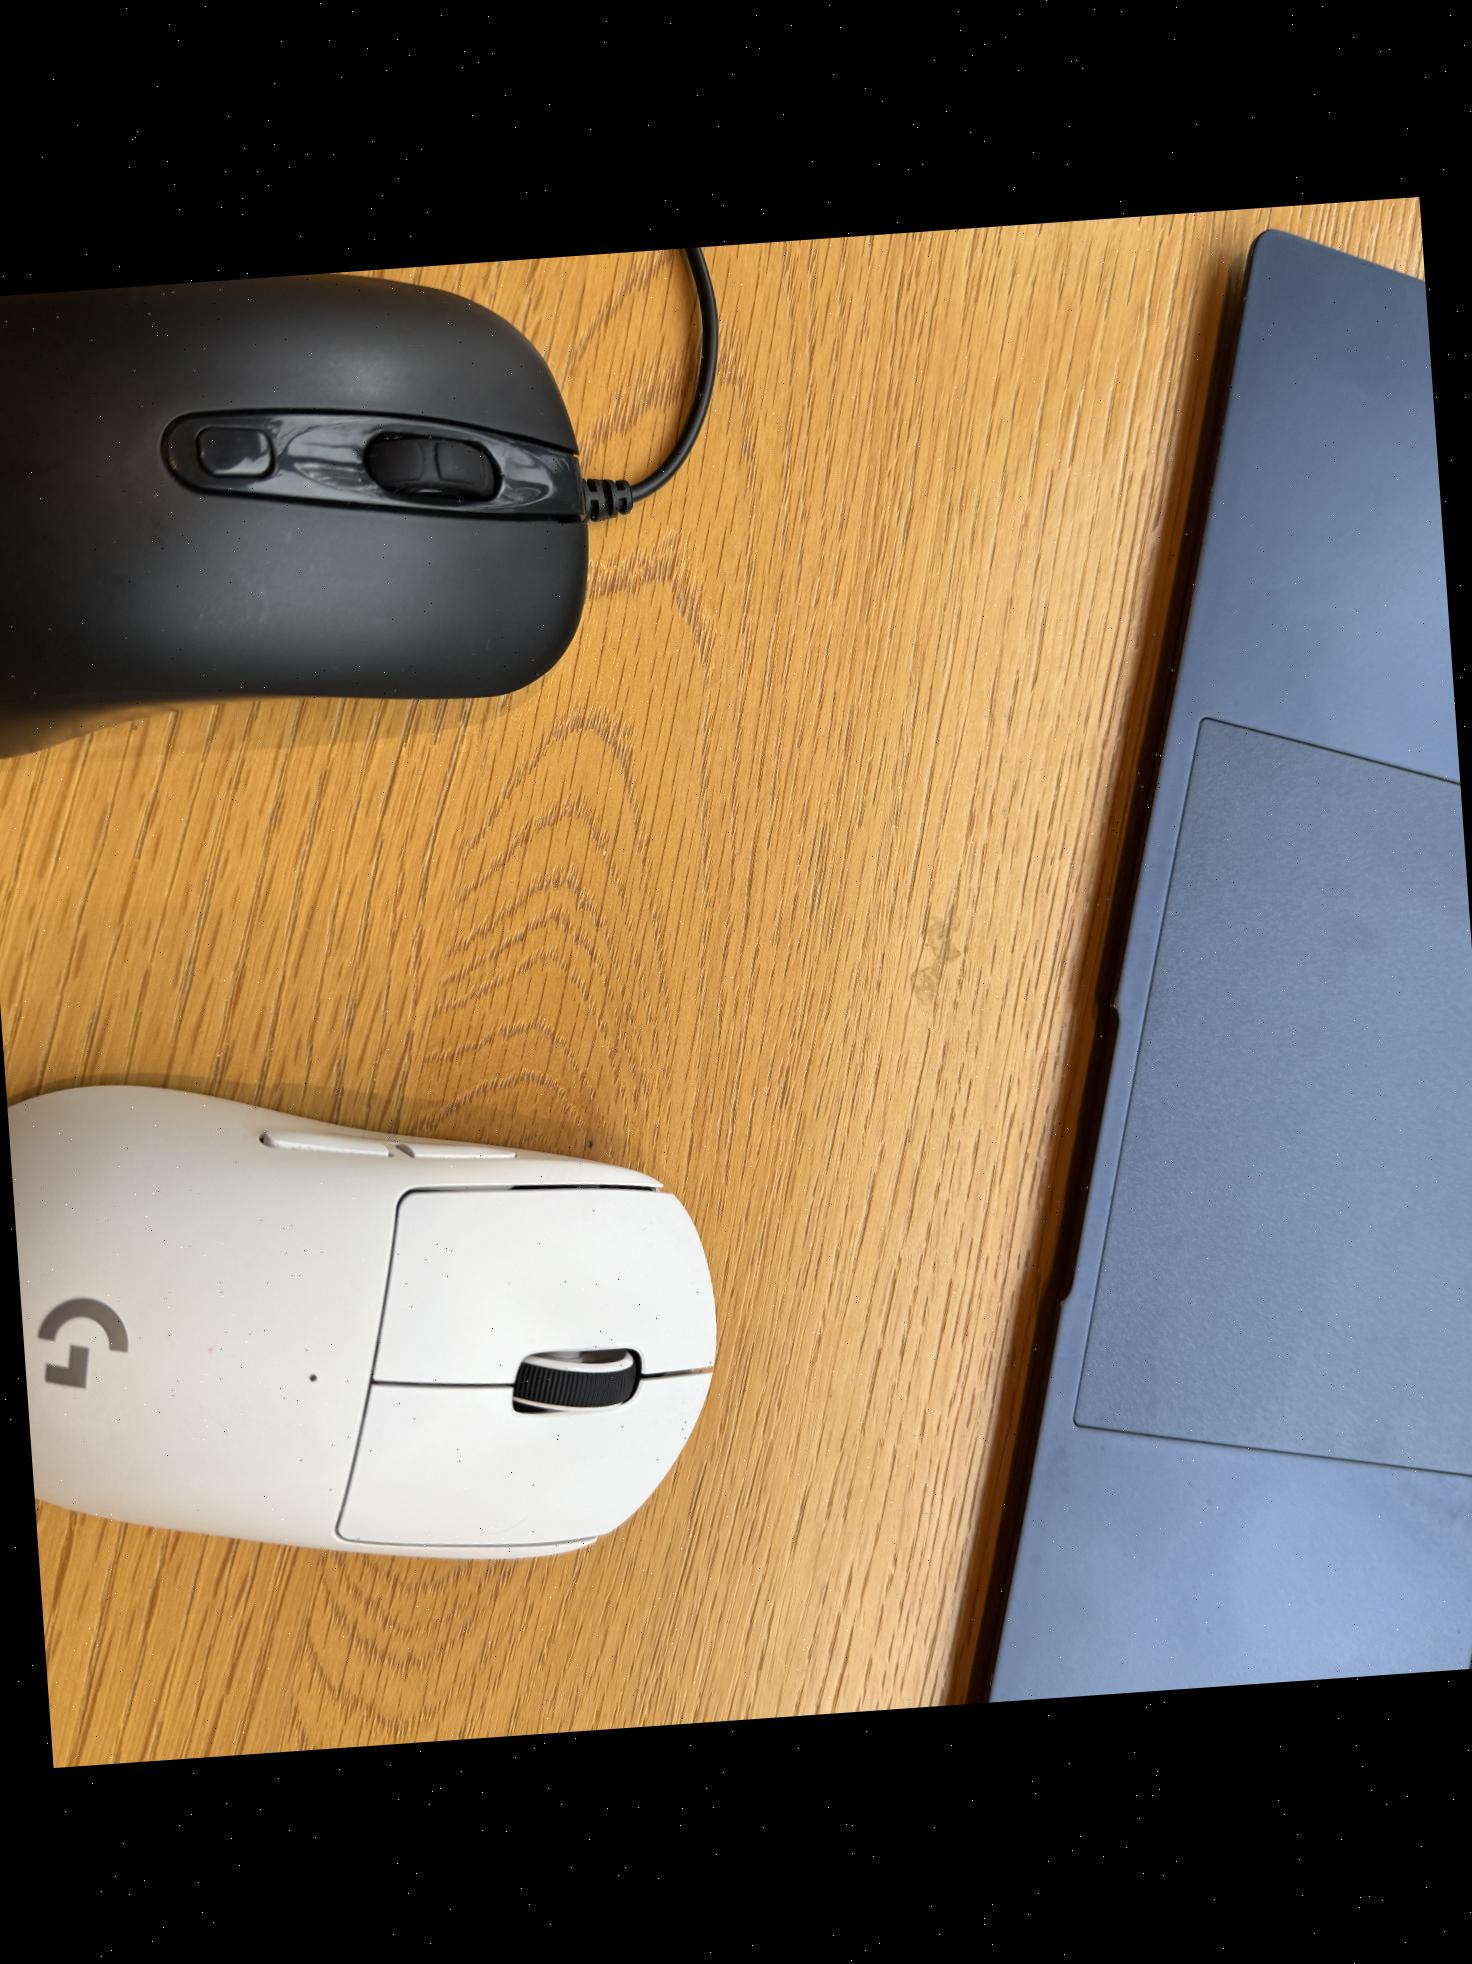front: (6, 1039, 744, 1607), (0, 257, 605, 759)
